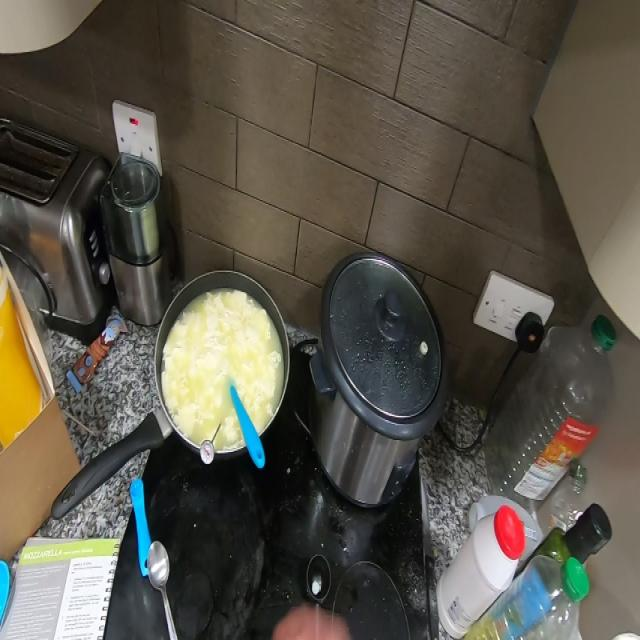oil: (485, 294, 620, 508)
pan: (59, 273, 286, 512)
rice cooker: (305, 231, 445, 531)
salt: (443, 498, 524, 635)
spoon: (150, 540, 177, 640)
toaster: (0, 110, 110, 334)
